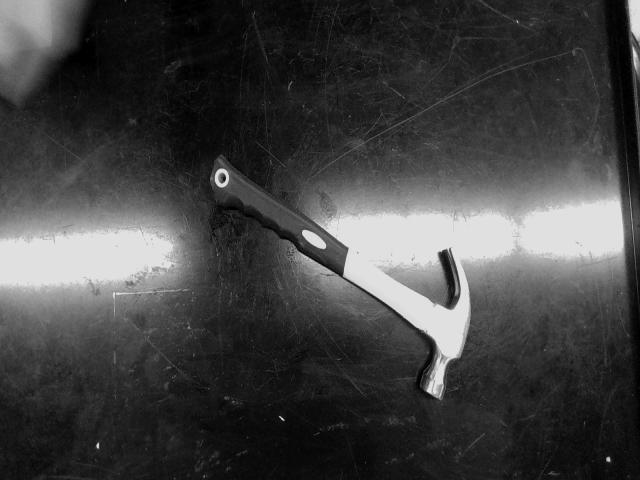Hammer: (210, 155, 471, 399)
